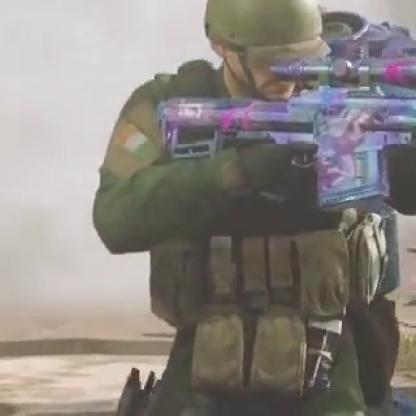enemy: (87, 0, 410, 411)
